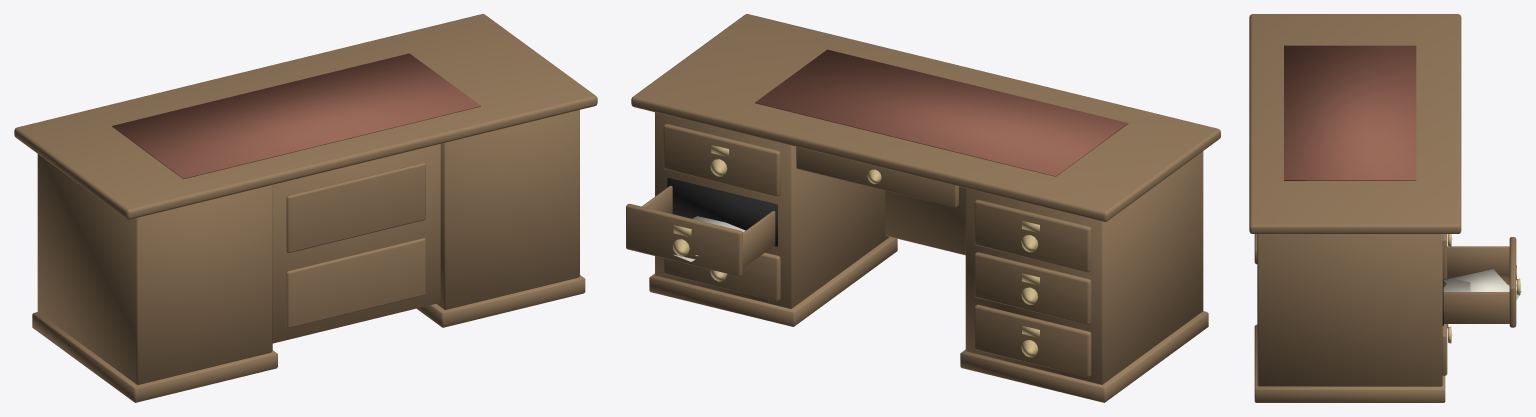
The model's file is ss_desk_open1.glb.
3 views of the same model, side by side, from view 1: azimuth 30°, elevation 25°; view 2: azimuth 150°, elevation 25°; view 3: azimuth 270°, elevation 25° (orthographic). The views are drawn at different scales.
Visible parts, largest first — view 1: ss_desk_open1; view 2: ss_desk_open1; view 3: ss_desk_open1.
Boxes of the visible parts, <box> form: ss_desk_open1: <box>14,14,597,402</box>; ss_desk_open1: <box>626,14,1220,402</box>; ss_desk_open1: <box>1249,14,1521,402</box>.
Bounding box in the file's own units: 1.9 × 0.7635 × 1.03.
